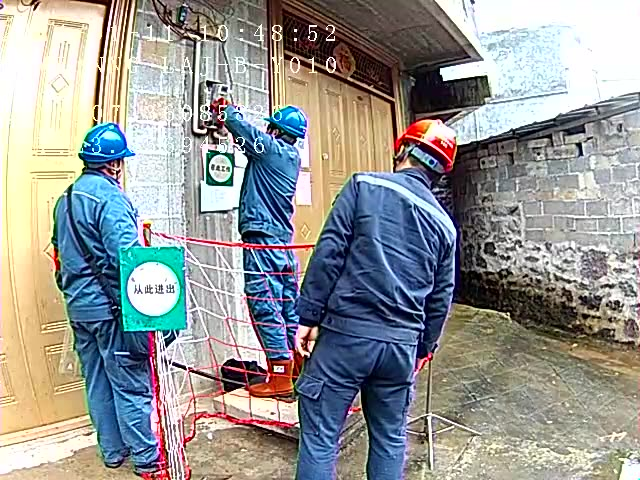downsuit: (293, 336, 422, 479), (68, 318, 164, 467), (240, 246, 290, 354)
halt: (394, 120, 457, 172), (80, 123, 131, 171), (264, 106, 310, 143)
hand: (293, 323, 317, 357)
intosign: (118, 245, 186, 333)
person: (293, 115, 465, 480), (49, 121, 158, 477), (210, 102, 311, 438)
shoe: (249, 359, 294, 397)
upsuit: (298, 168, 462, 328), (53, 172, 140, 299), (233, 113, 307, 238)
worksign: (204, 147, 236, 187)
